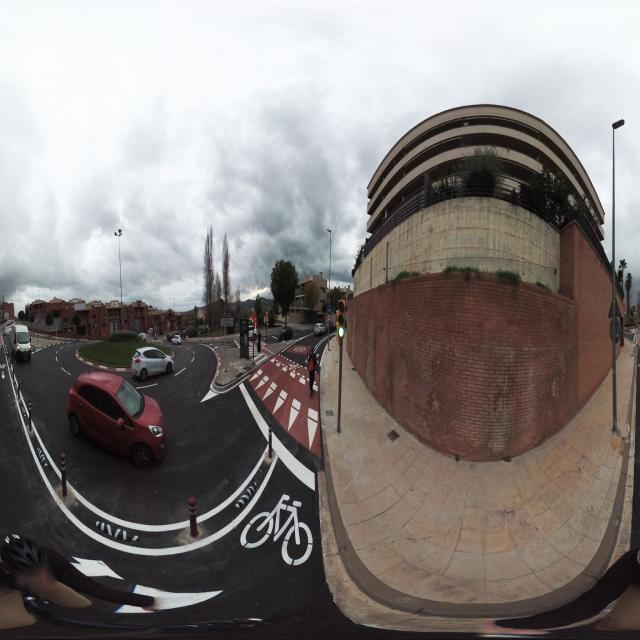car: (67, 368, 167, 469), (130, 345, 174, 381), (10, 326, 32, 364), (278, 324, 294, 343), (314, 318, 324, 336)
